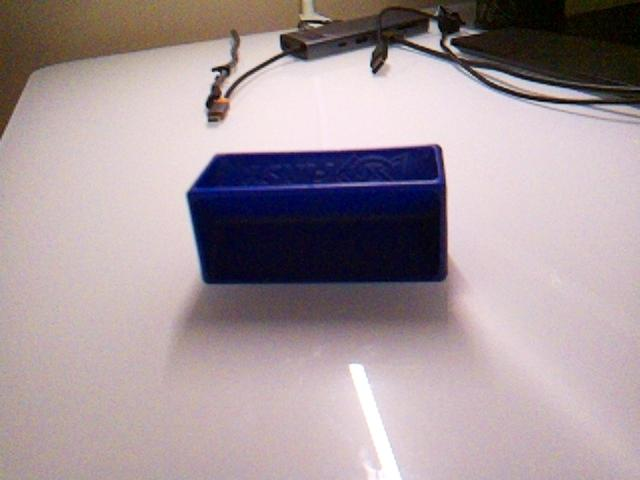blue: (185, 143, 450, 286)
